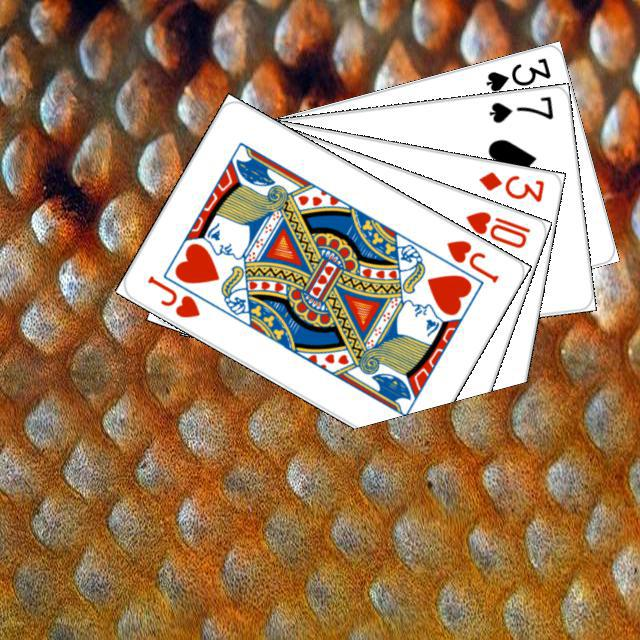10h: (460, 206, 532, 250)
3d: (474, 166, 546, 205)
3s: (480, 52, 553, 94)
7s: (484, 91, 555, 125)
Jh: (441, 235, 501, 285), (142, 270, 202, 320)
